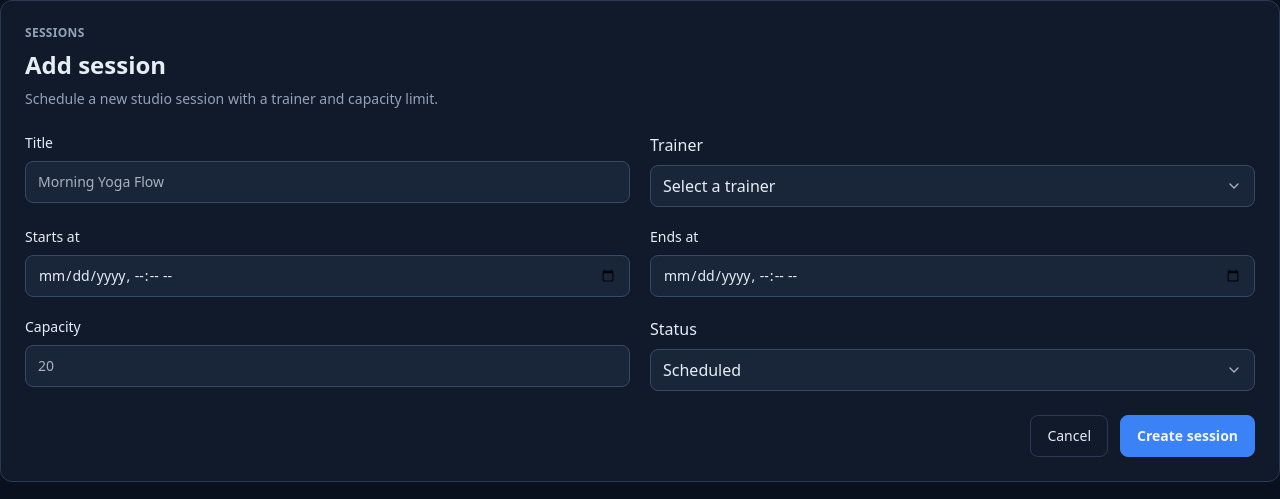
Test case: CreateSessionForm › renders session fields, trainer options, and default status
The image size is (1280, 499).
Check: the heading "Add session" is shown, box 25,48 -> 166,81
Check: the field labelled "Title" is shown, box 25,161 -> 630,203
Step 1. Click the button "Select a trainer" → (719, 186), box 650,165 -> 1255,207
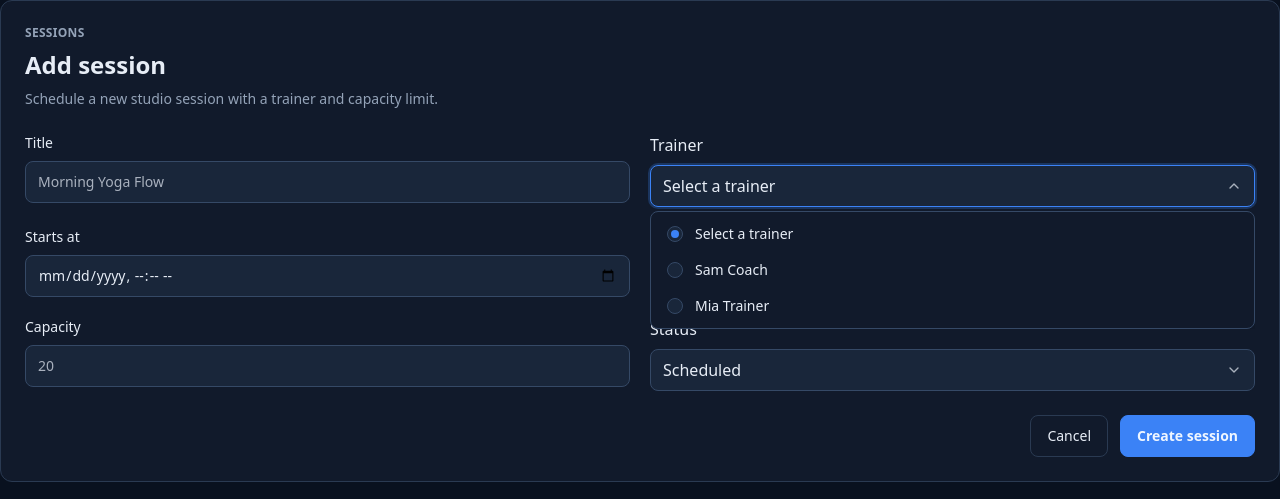
Check: the field labelled "Starts at" is shown, box 25,255 -> 630,297
Check: the radio button with aria-label "trainer: sam coach" is shown, box 667,260 -> 768,279
Check: the radio button with aria-label "trainer: mia trainer" is shown, box 667,296 -> 769,315
